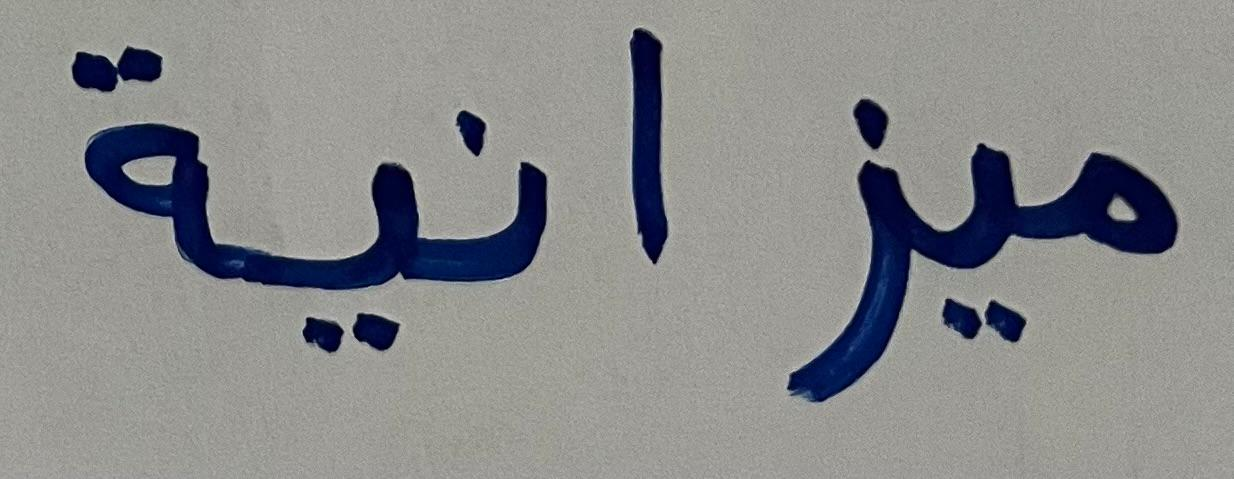alef: (600, 0, 738, 333)
meem: (1051, 108, 1201, 294)
noon: (430, 71, 586, 354)
teh_marbota: (39, 7, 231, 318)
yeh: (235, 92, 426, 398), (918, 71, 1043, 380)
zain: (758, 55, 915, 432)
